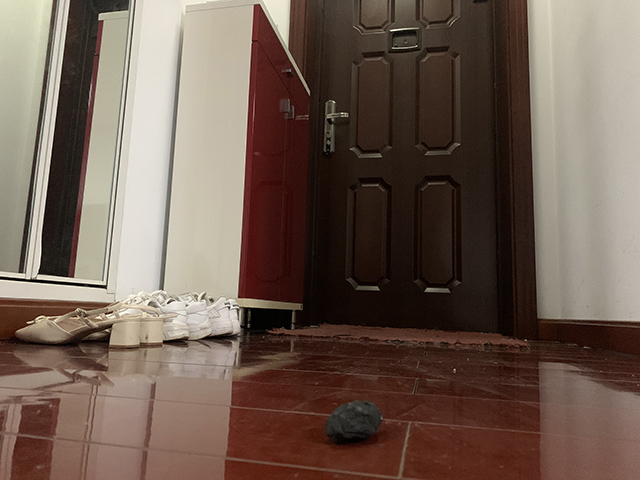cabinet: (161, 1, 312, 328)
carpet: (266, 323, 532, 350)
feces: (324, 398, 382, 445)
